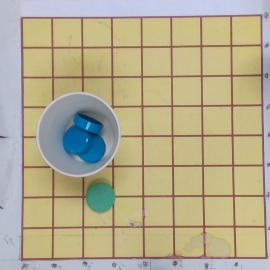cup_blue: (35, 92, 121, 178)
green: (86, 182, 115, 212)
